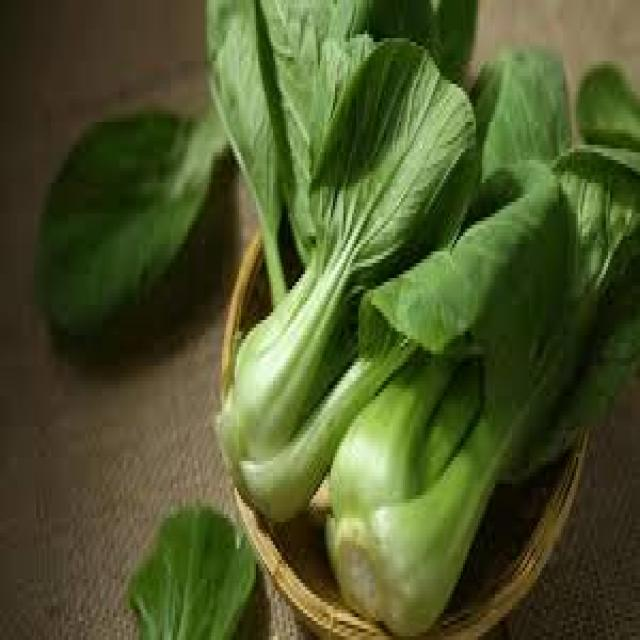bokchoy: (204, 20, 594, 591)
